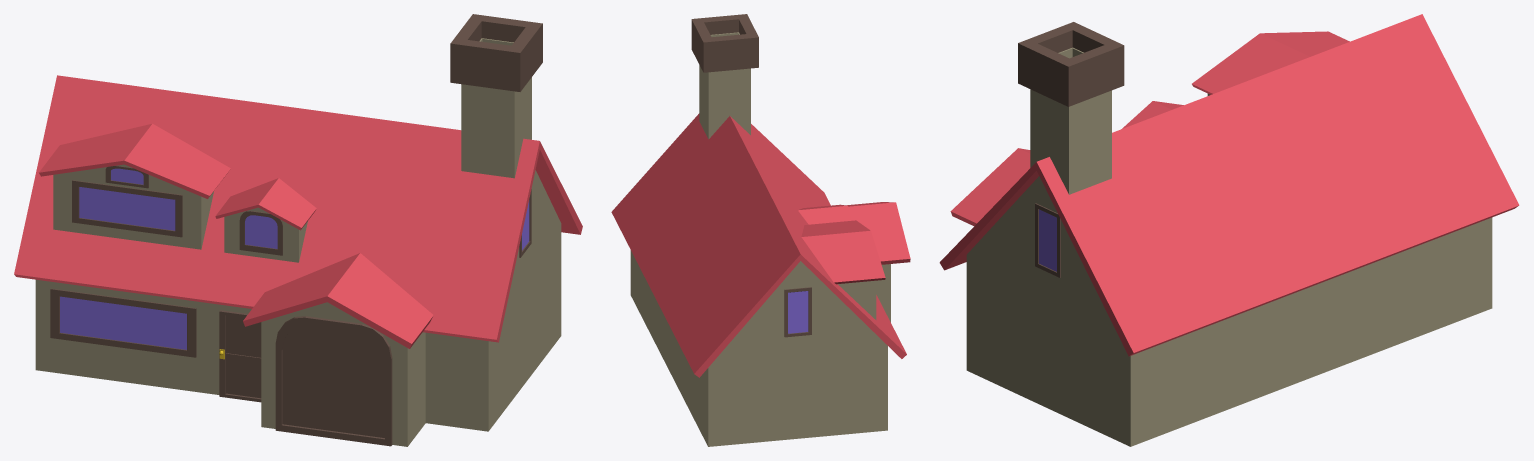
The model's file is CALLE5_CASA1_011.fbx.
3 renders of one model, left to right at view 1: azimuth 30°, elevation 25°; view 2: azimuth 150°, elevation 25°; view 3: azimuth 270°, elevation 25°, orthographic. The views are drawn at different scales.
Parts seen in each view (by area): view 1: CASA1.011; view 2: CASA1.011; view 3: CASA1.011.
Part boxes in pixels (x1=…): CASA1.011: x1=14, y1=14, x2=582, y2=446; CASA1.011: x1=611, y1=14, x2=910, y2=446; CASA1.011: x1=939, y1=14, x2=1519, y2=446.
Bounding box in the file's own units: 1055 × 734 × 1085.
